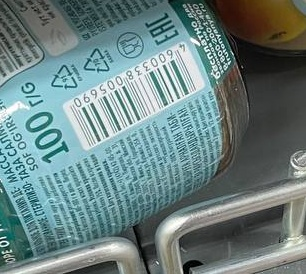1d: (72, 53, 197, 148)
